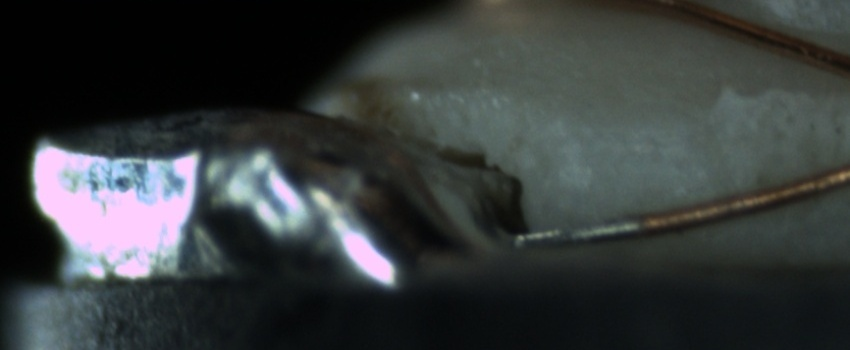TS: (509, 211, 648, 248)
